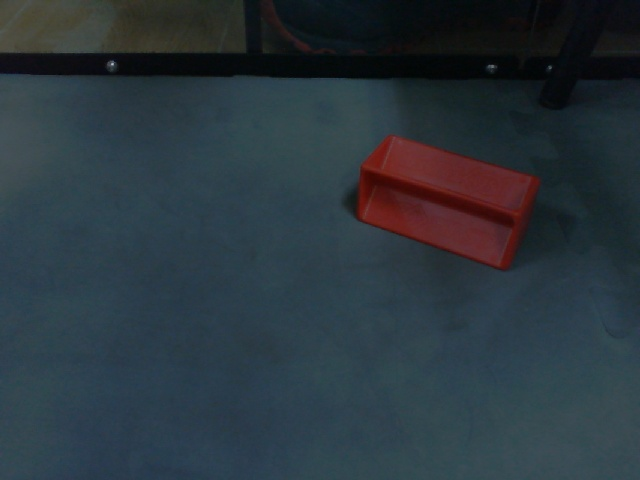RedSample: (353, 132, 544, 274)
